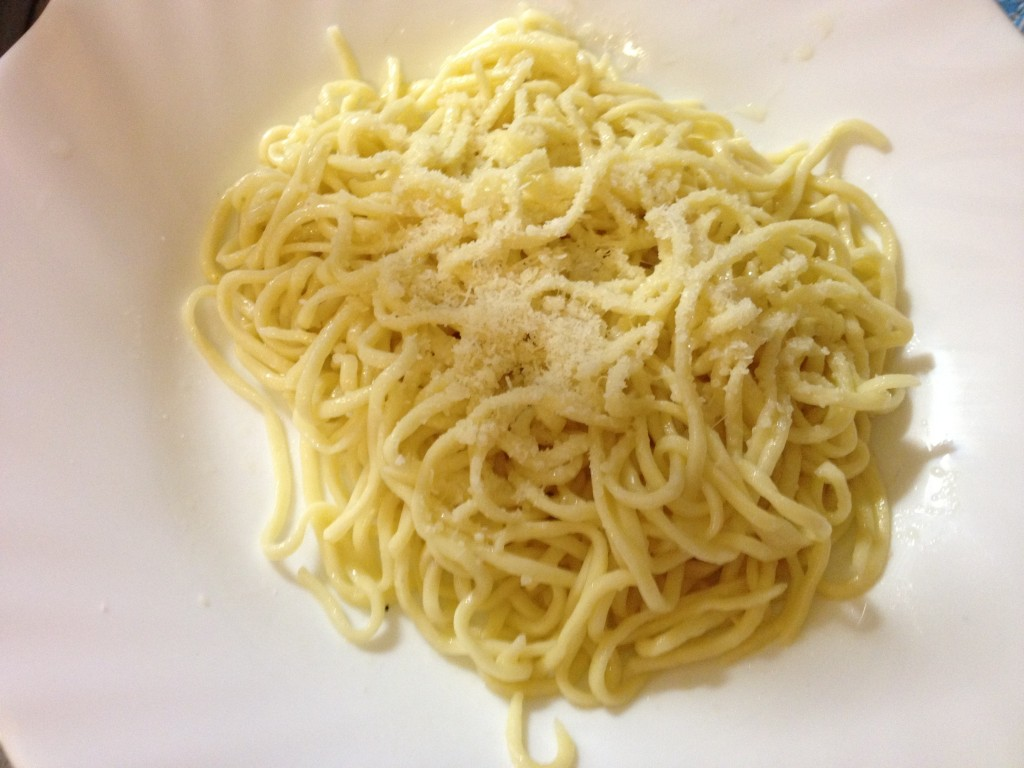plain spaghetti: (242, 35, 909, 702)
